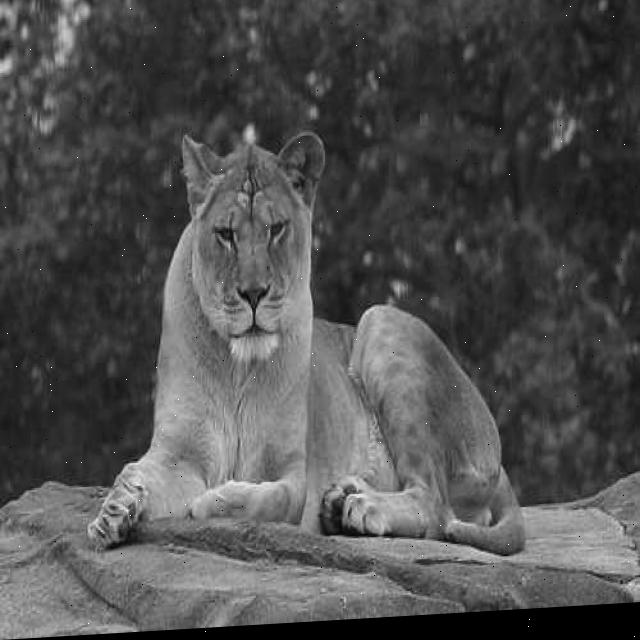Lion: (130, 106, 448, 551)
